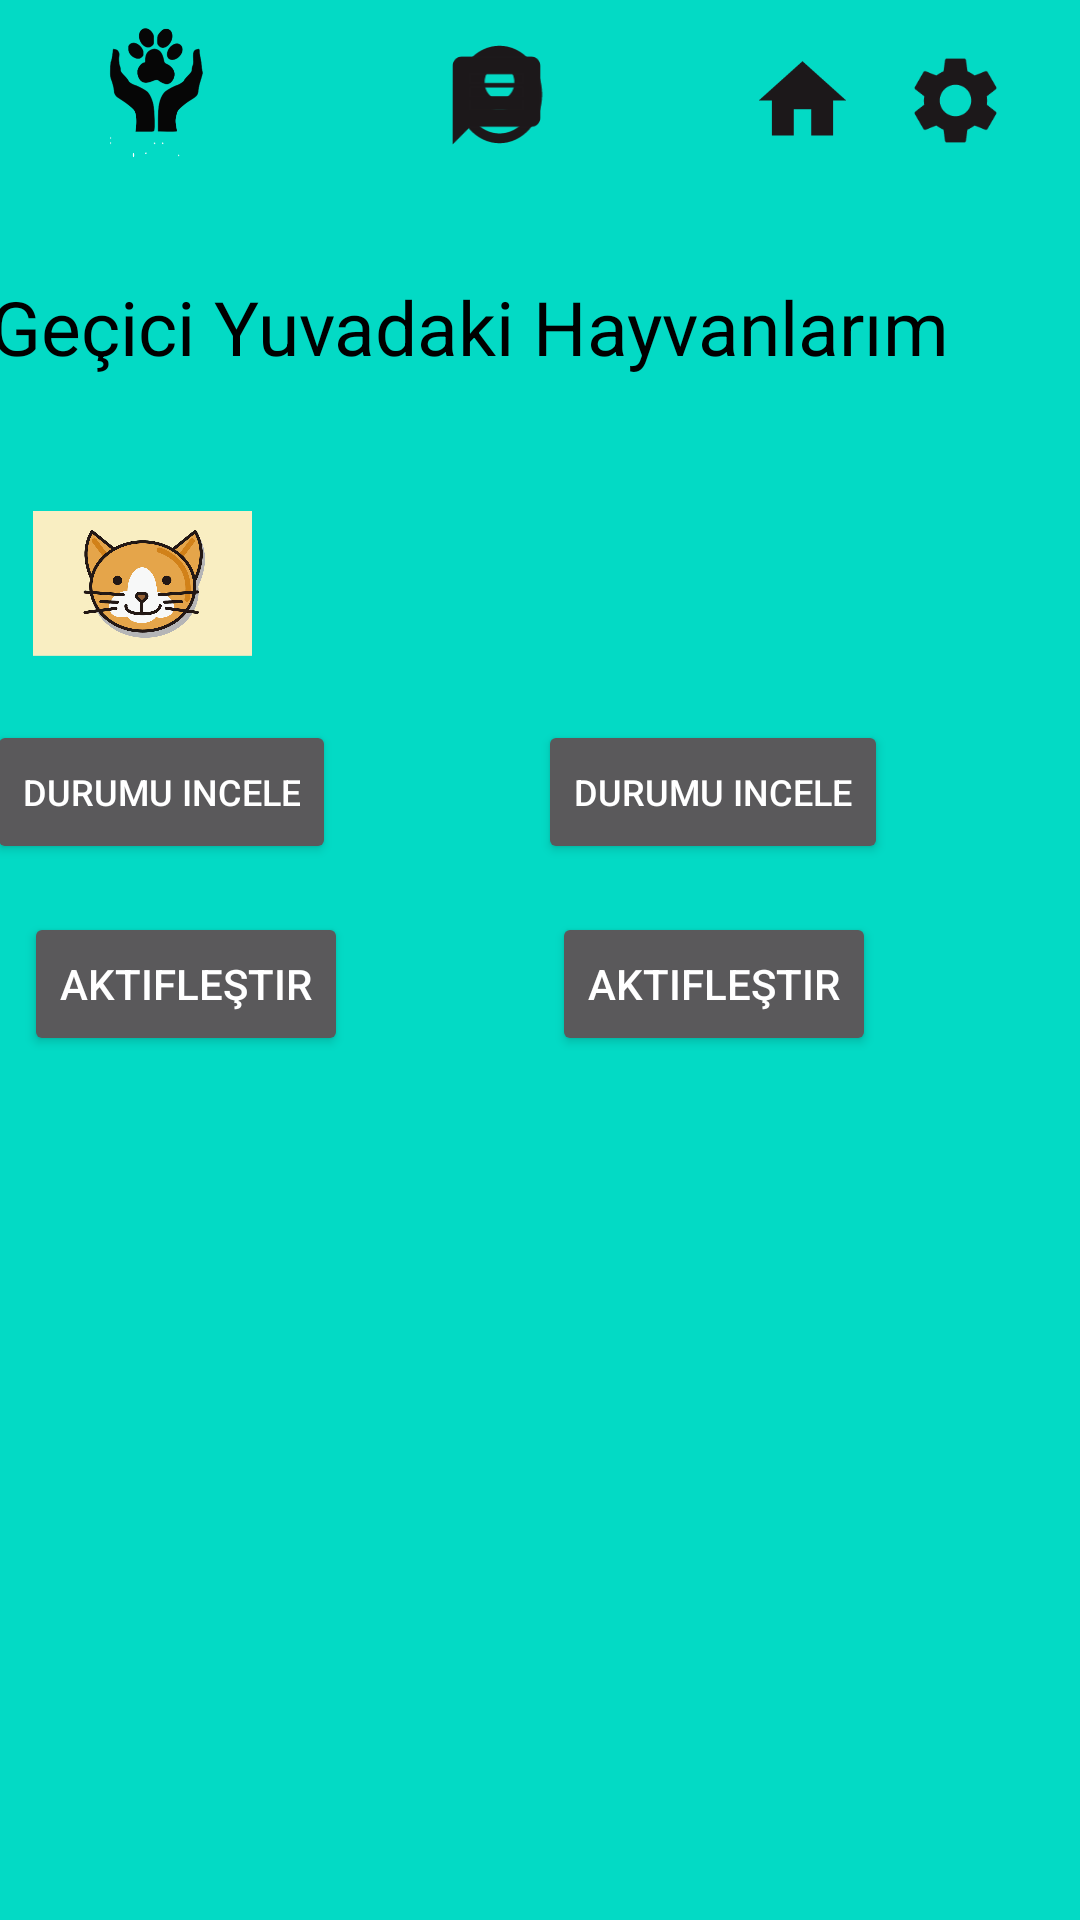

Icon bounding boxes for this 1080*1920 phone screenshot, format {"x1": x1, "y1": y1, "x2": x2, "y2": y2}:
evcil: {"x1": 33, "y1": 511, "x2": 252, "y2": 656}
home: {"x1": 759, "y1": 61, "x2": 846, "y2": 136}
settings: {"x1": 914, "y1": 58, "x2": 997, "y2": 143}
